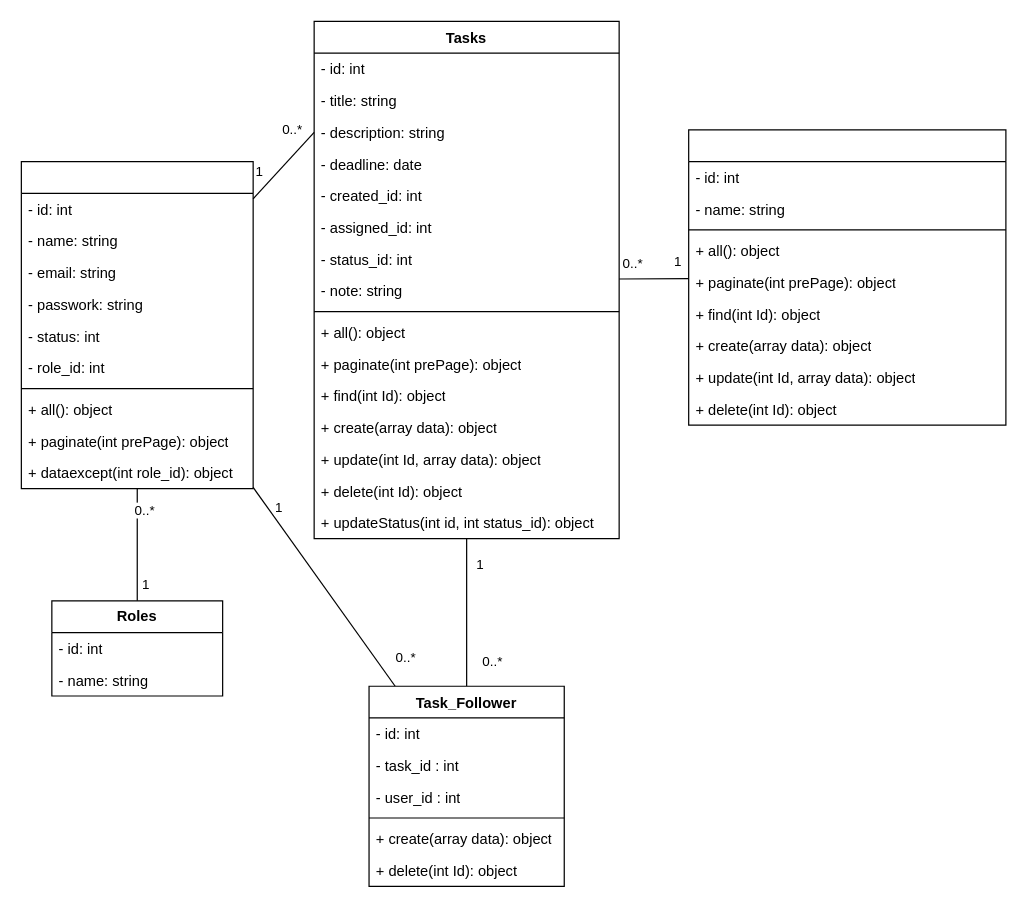
The diagram is 1027 pixels wide and 911 high, and some of its shapes have lost their labels. The box of each missing label's shape, as (x1, y1, x2, y2) in pixels:
Task_Status: (687, 129, 1006, 425)
Users: (20, 160, 253, 489)
